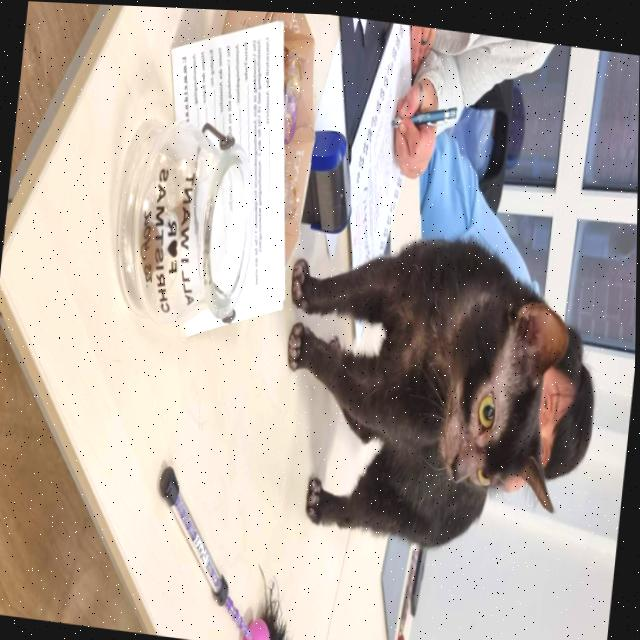Lykoi: (262, 206, 587, 571)
